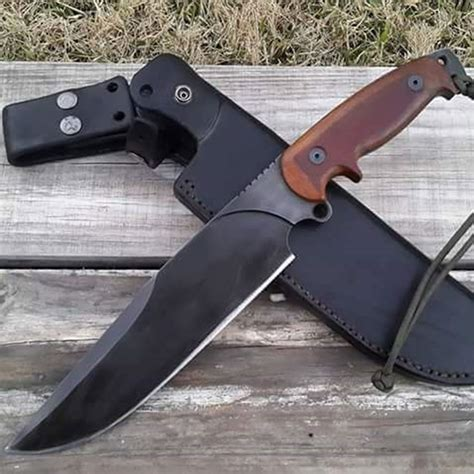knife: (9, 46, 464, 454)
